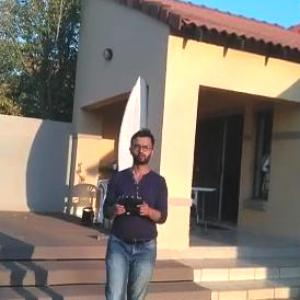follow: (100, 124, 177, 299)
